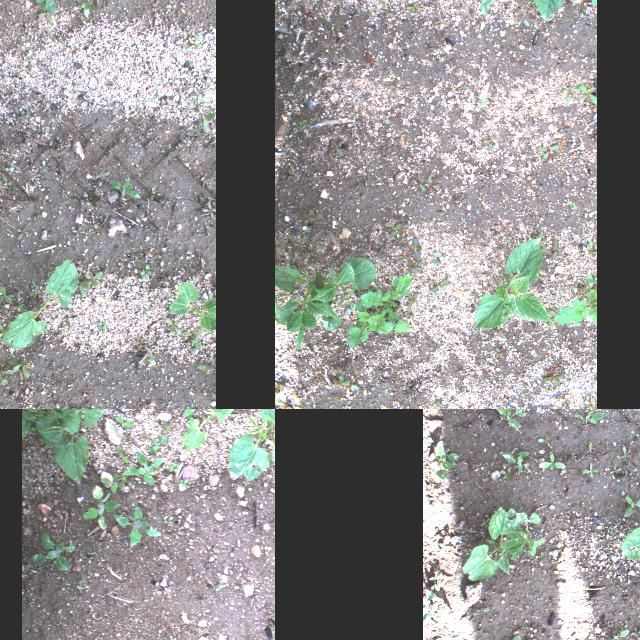crop: (23, 409, 113, 489), (2, 260, 78, 348), (476, 240, 552, 328), (460, 506, 546, 582), (311, 252, 377, 332), (275, 263, 329, 346), (226, 409, 275, 481), (177, 409, 240, 449), (170, 282, 216, 332), (622, 517, 640, 575)
weed: (347, 274, 413, 348), (24, 530, 74, 576), (114, 504, 162, 550), (78, 484, 122, 532), (554, 274, 596, 324), (121, 451, 167, 485), (30, 0, 98, 18), (96, 470, 136, 496), (432, 441, 458, 481), (147, 419, 176, 453), (186, 108, 216, 136), (493, 409, 524, 432), (108, 177, 140, 199), (423, 588, 443, 622), (538, 360, 564, 386), (576, 409, 608, 428), (503, 451, 529, 474), (70, 573, 92, 599), (110, 412, 136, 433), (8, 358, 30, 378), (360, 0, 392, 13), (325, 138, 345, 158), (540, 452, 562, 470), (0, 357, 14, 385), (549, 234, 563, 262), (407, 237, 421, 263), (114, 446, 132, 466), (538, 143, 560, 159), (580, 83, 596, 105), (438, 536, 454, 558), (625, 494, 639, 518), (571, 0, 596, 13), (38, 3, 54, 23), (86, 271, 102, 291), (300, 6, 316, 26), (427, 278, 447, 294), (163, 512, 179, 532), (188, 94, 210, 108), (401, 3, 423, 17), (300, 210, 322, 224), (165, 317, 182, 335), (0, 283, 14, 304), (2, 172, 18, 190), (581, 462, 599, 478), (430, 572, 446, 590), (385, 136, 399, 156), (275, 380, 284, 409), (286, 163, 296, 189), (188, 36, 204, 52), (332, 372, 348, 388), (166, 460, 182, 476), (179, 476, 193, 494), (562, 85, 576, 102), (412, 177, 426, 193), (424, 176, 440, 190), (222, 518, 238, 532), (433, 396, 450, 409), (32, 278, 42, 300), (211, 583, 229, 595), (202, 202, 215, 218), (184, 328, 204, 338), (384, 219, 404, 229), (609, 630, 629, 640), (12, 300, 26, 314), (324, 26, 338, 40), (295, 118, 309, 132), (482, 137, 494, 153), (492, 346, 508, 358), (304, 245, 318, 258), (404, 262, 422, 272), (17, 224, 28, 240), (72, 225, 86, 237), (191, 337, 203, 351), (142, 354, 156, 366), (433, 0, 445, 14), (25, 50, 35, 66), (133, 337, 149, 347), (79, 281, 89, 297), (432, 16, 448, 26), (546, 304, 556, 320), (536, 434, 552, 444), (390, 240, 402, 253), (406, 292, 419, 304), (501, 471, 513, 484), (92, 172, 110, 180), (198, 365, 216, 373), (567, 199, 579, 211), (430, 251, 440, 265), (536, 229, 546, 243), (490, 325, 504, 335), (346, 382, 360, 392), (457, 194, 468, 206), (401, 382, 414, 392), (0, 323, 8, 339), (388, 231, 404, 239), (140, 264, 152, 274), (57, 366, 69, 376), (391, 81, 401, 93), (346, 109, 356, 121), (476, 95, 486, 107), (518, 370, 530, 380), (489, 454, 496, 471), (588, 244, 596, 258), (365, 55, 375, 65), (531, 272, 541, 282), (25, 106, 33, 118), (324, 225, 330, 241), (584, 240, 592, 252), (622, 444, 628, 460), (64, 317, 72, 328), (150, 186, 156, 200), (101, 270, 109, 280), (398, 254, 407, 262), (541, 246, 547, 258), (589, 106, 597, 114), (540, 553, 546, 563), (588, 442, 594, 452), (76, 272, 82, 280), (98, 322, 105, 328), (464, 86, 471, 92), (4, 167, 14, 171), (312, 405, 322, 409), (166, 6, 172, 12), (630, 430, 636, 436)
